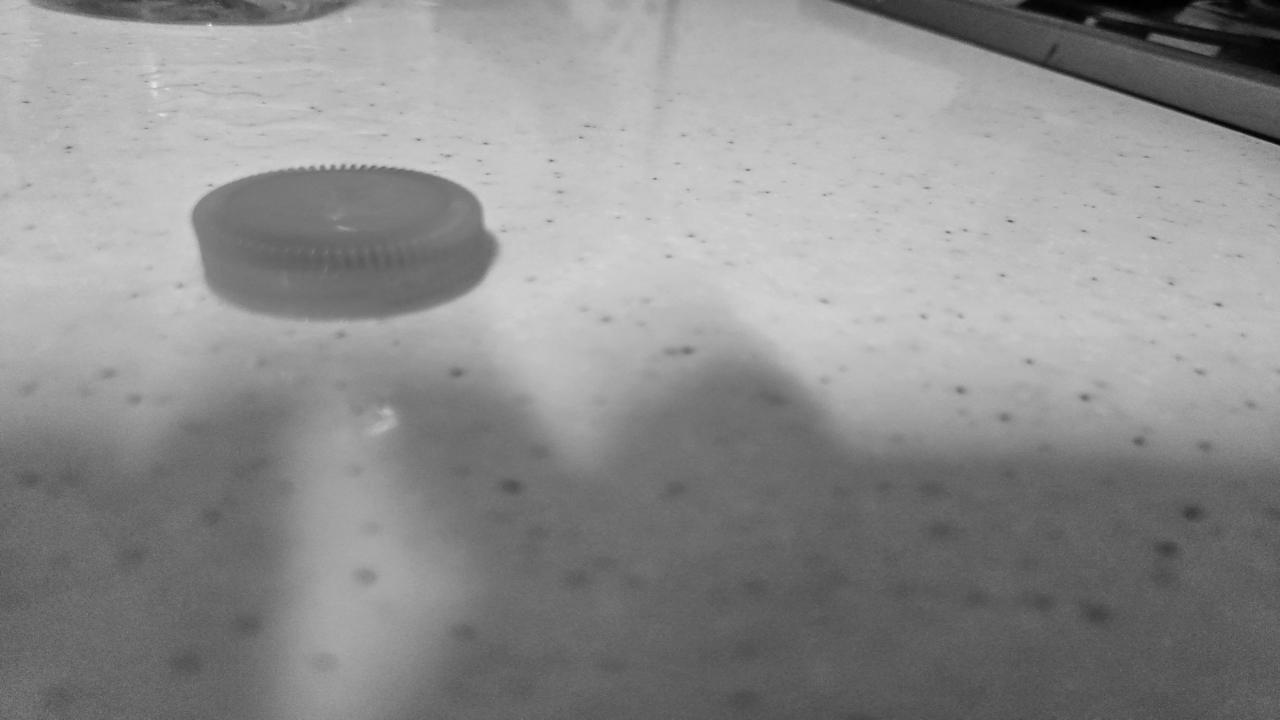bottle_cap: (204, 171, 486, 314)
